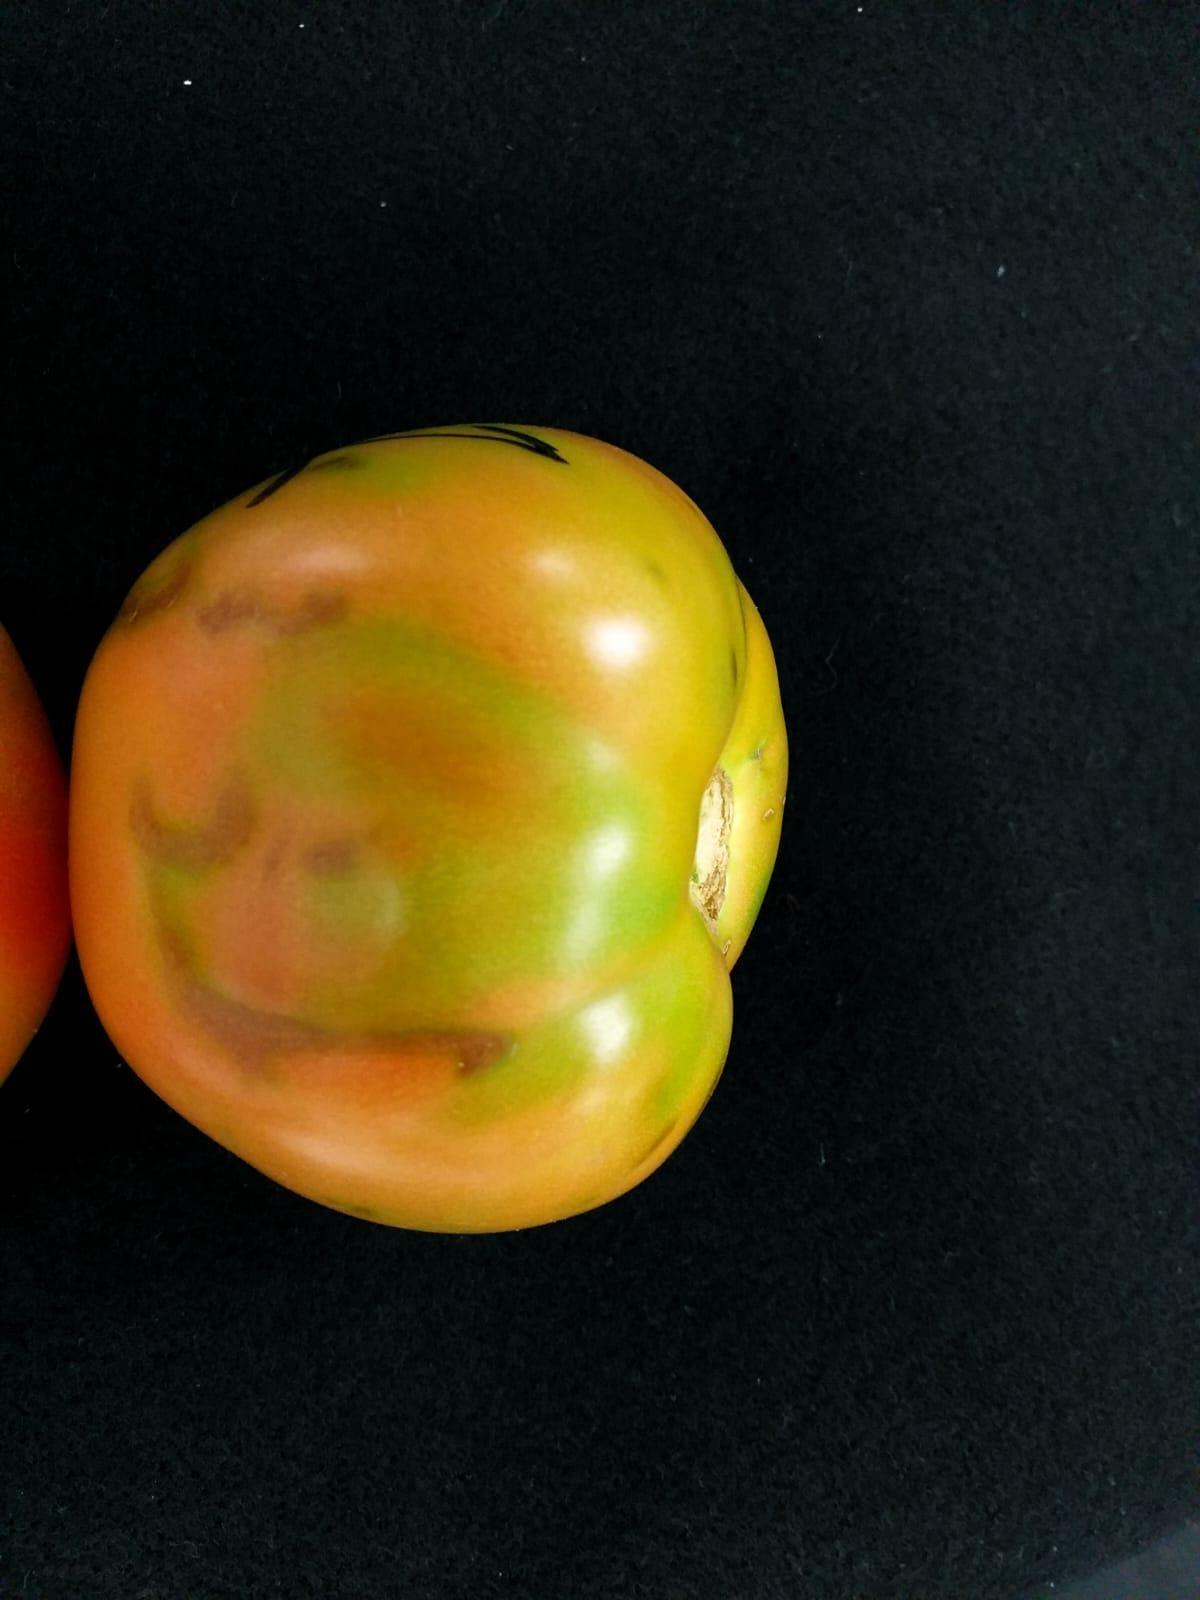Rugose tomato: (72, 425, 788, 1231)
